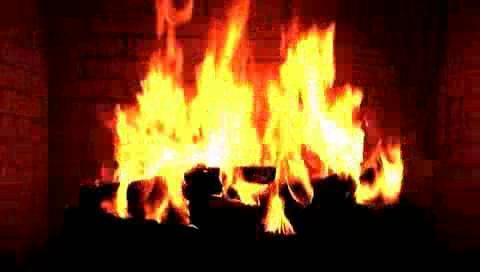fire: (90, 17, 417, 240)
